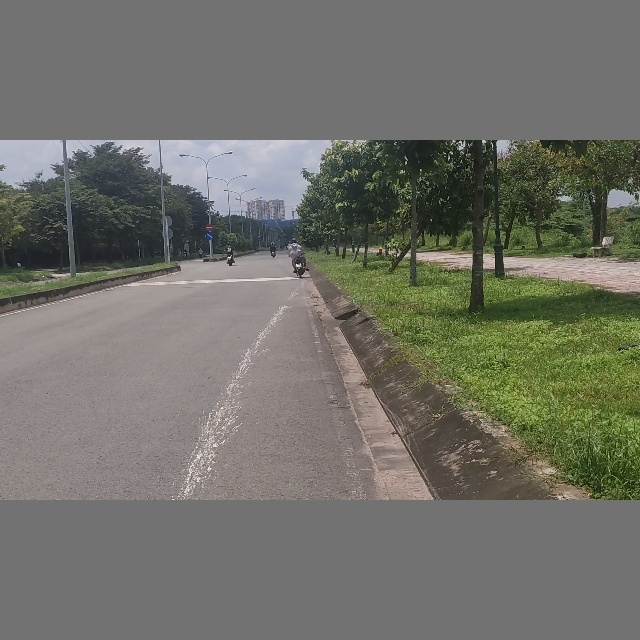P.102: (206, 223, 213, 231)
R.302a: (205, 232, 213, 239)
